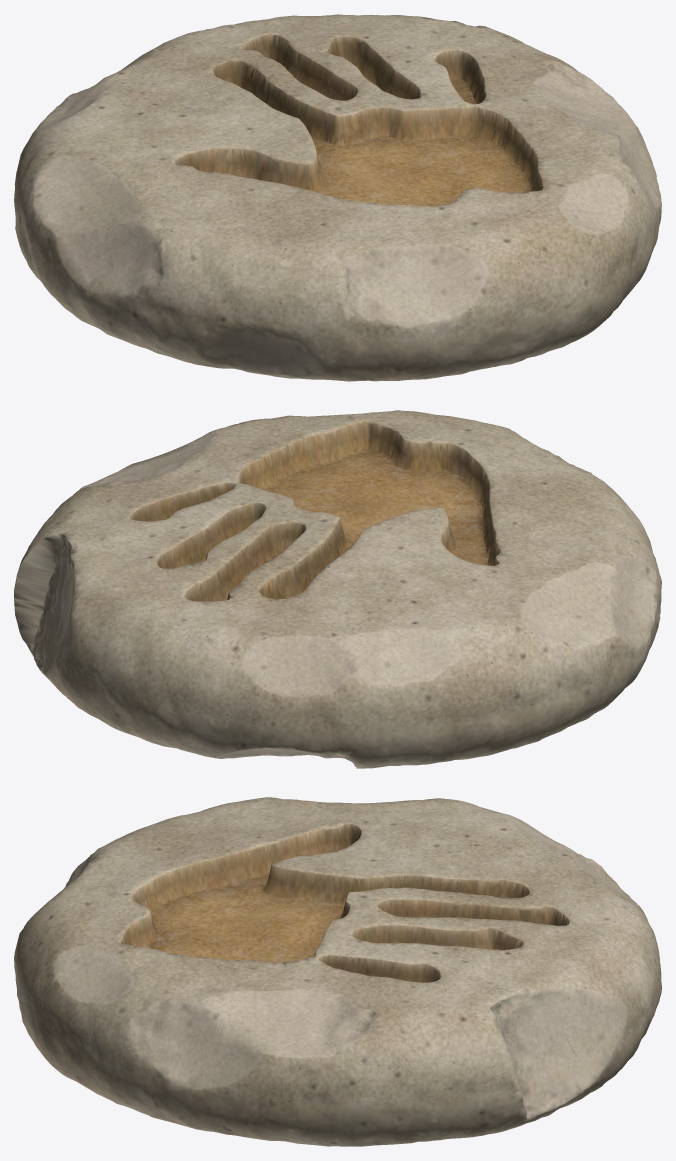
The model's file is opmet-coin_sandstone.glb.
3 renders of one model, top to bottom at view 1: azimuth 30°, elevation 25°; view 2: azimuth 150°, elevation 25°; view 3: azimuth 270°, elevation 25°, orthographic. The views are drawn at different scales.
Visible parts, largest first — view 1: sandstone; view 2: sandstone; view 3: sandstone.
Boxes of the visible parts, x1,y1,x2,y2 form: sandstone: (14, 14, 661, 381); sandstone: (14, 410, 661, 768); sandstone: (14, 797, 661, 1146).
Size of the model in its own units: 1.99 by 0.525 by 2.03.
Materials: 1 (1 with a texture image).
